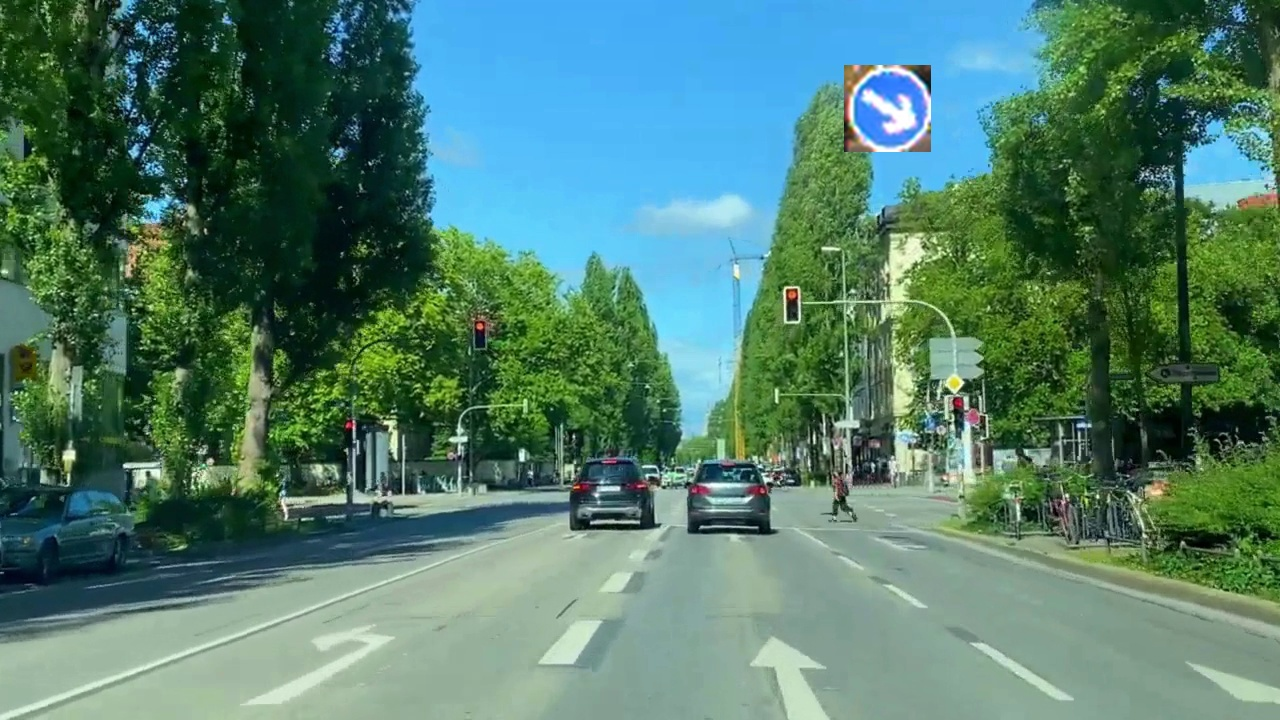Keep right: (844, 65, 931, 152)
